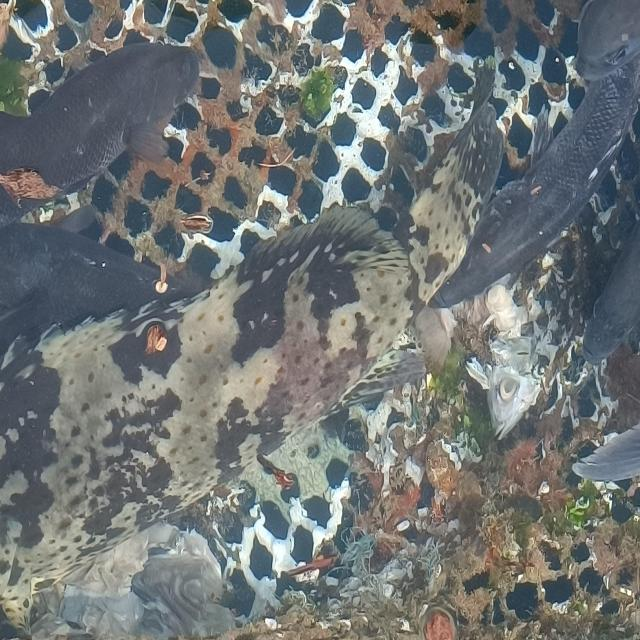ikan: (433, 12, 639, 325), (0, 41, 202, 216)
